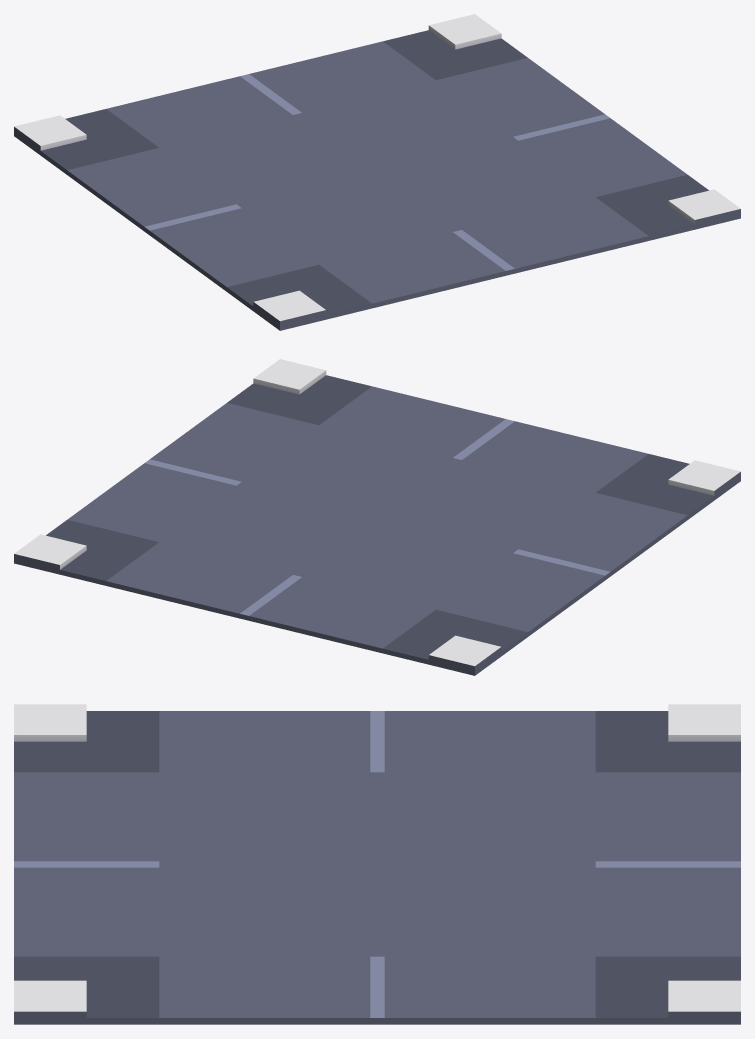
The model's file is road-crossroad.glb.
3 renders of one model, top to bottom at view 1: azimuth 30°, elevation 25°; view 2: azimuth 150°, elevation 25°; view 3: azimuth 270°, elevation 25°, orthographic. The views are drawn at different scales.
Visible parts, largest first — view 1: road-crossroad; view 2: road-crossroad; view 3: road-crossroad.
Boxes of the visible parts, x1,y1,x2,y2 form: road-crossroad: [14, 14, 740, 330]; road-crossroad: [14, 359, 740, 675]; road-crossroad: [14, 704, 740, 1024].
Size of the model in its own units: 1 by 0.02 by 1.
Materials: 1 (1 with a texture image).
